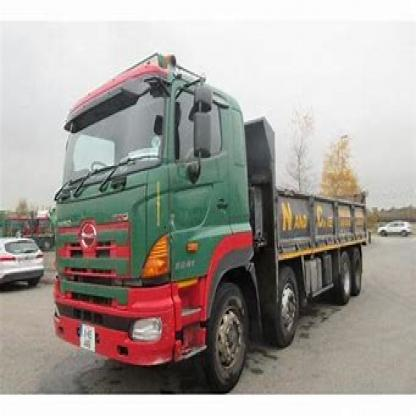dump_truck: (46, 53, 381, 391)
